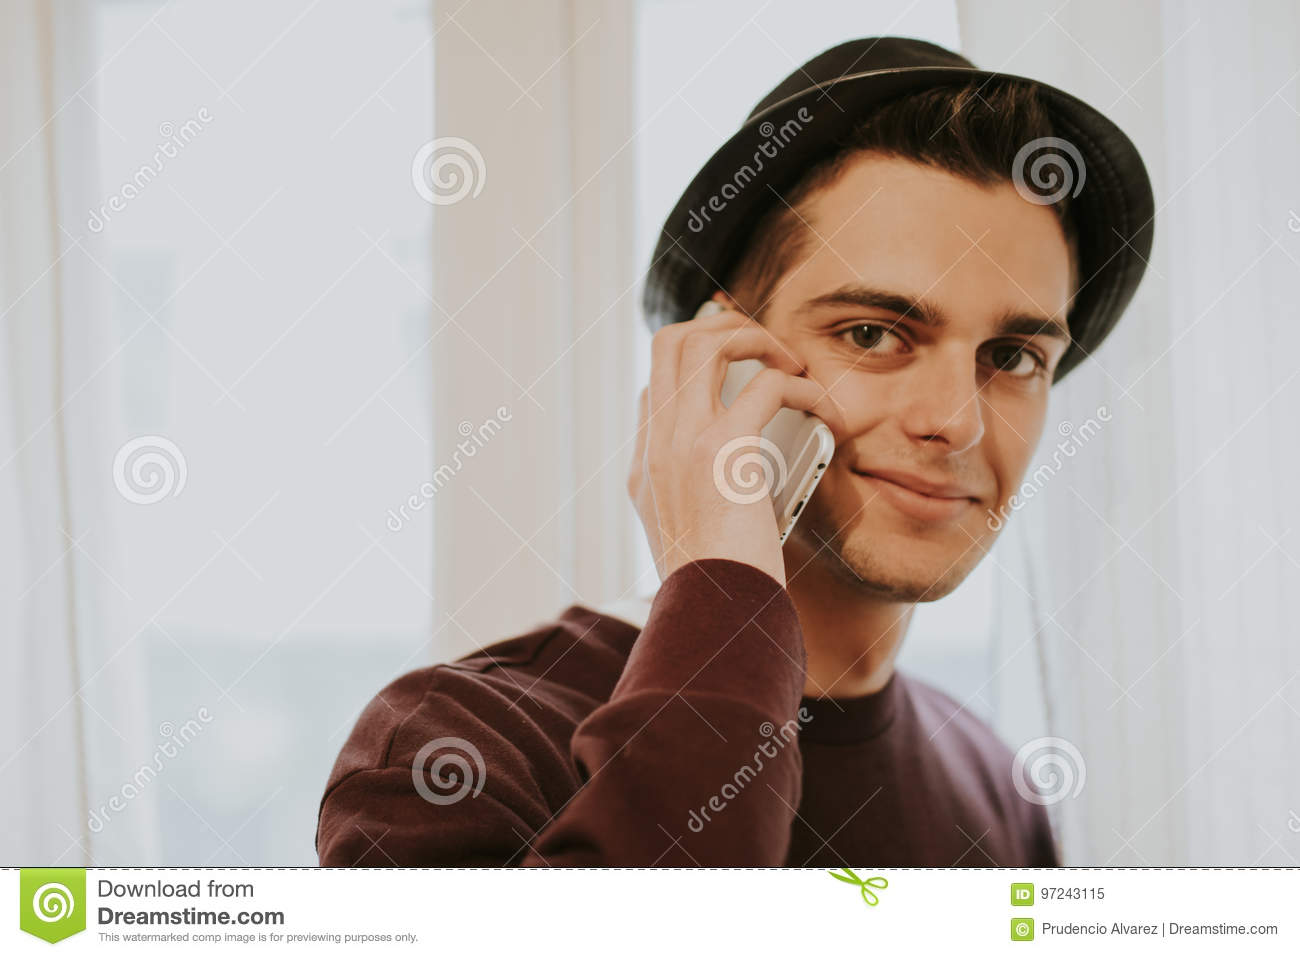phone: (680, 299, 839, 569)
talk: (627, 245, 1073, 642)
